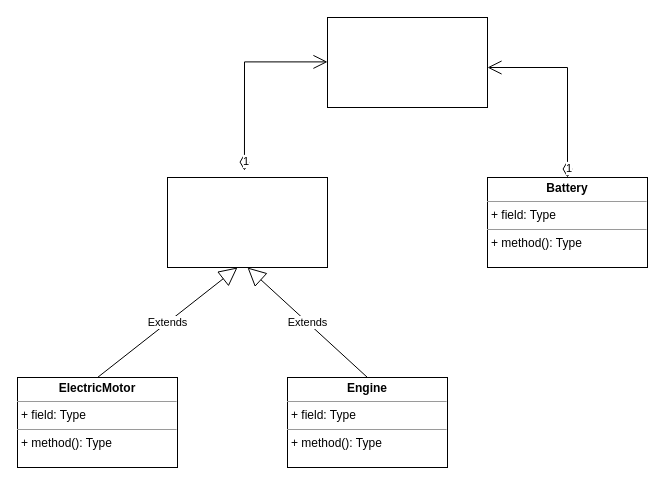
Some shapes in this 665 by 485 pixel diagram are drawn without their labels. Here are the shapes that lost their labels. From the top down, the centre of each, then its label:
the point at 407,62: Car + field: Type + method(): Type
the point at 247,222: Motor {abstract} + field: Type + method(): Type
